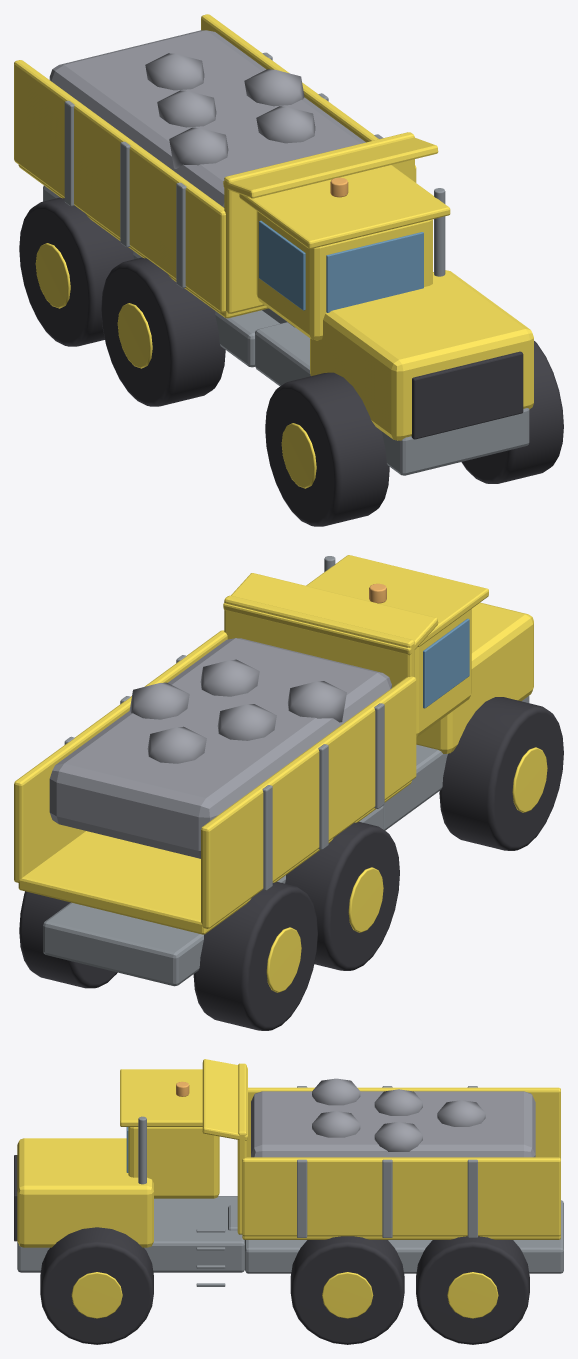
The model's file is haul_truck.fbx.
3 renders of one model, top to bottom at view 1: azimuth 30°, elevation 25°; view 2: azimuth 150°, elevation 25°; view 3: azimuth 270°, elevation 25°, orthographic. The views are drawn at different scales.
Visible parts, largest first — view 1: Visual, Spin_X; view 2: Spin_X, Visual; view 3: Visual, Spin_X.
Boxes of the visible parts, x1,y1,x2,y2 form: Visual: (19,165,563,526); Spin_X: (14,14,438,318); Spin_X: (14,573,438,934); Visual: (19,555,563,1030); Visual: (14,1069,563,1344); Spin_X: (202,1059,560,1239).
Size of what is drawn, in the model's own units: 362 by 412 by 966.
